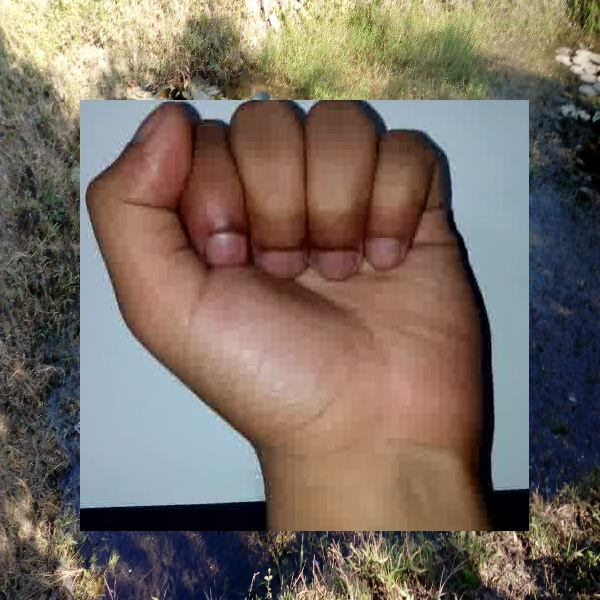A: (80, 100, 529, 531)
